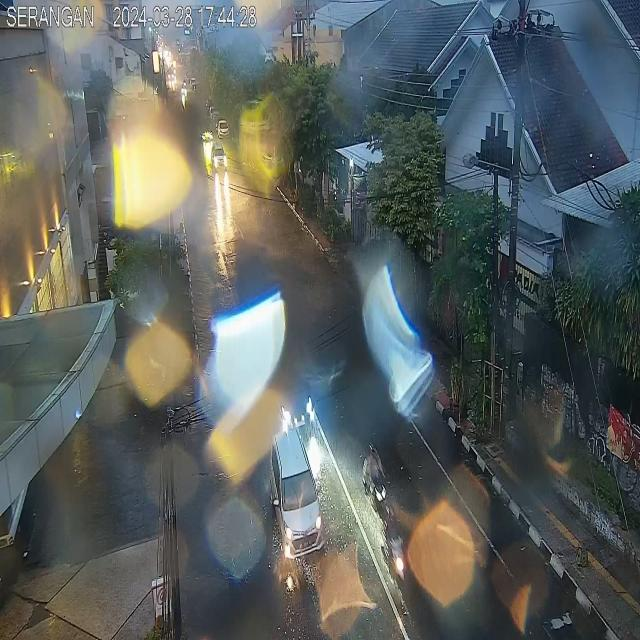car: (268, 428, 324, 558)
motorcycle: (381, 503, 406, 595), (362, 439, 388, 524)
